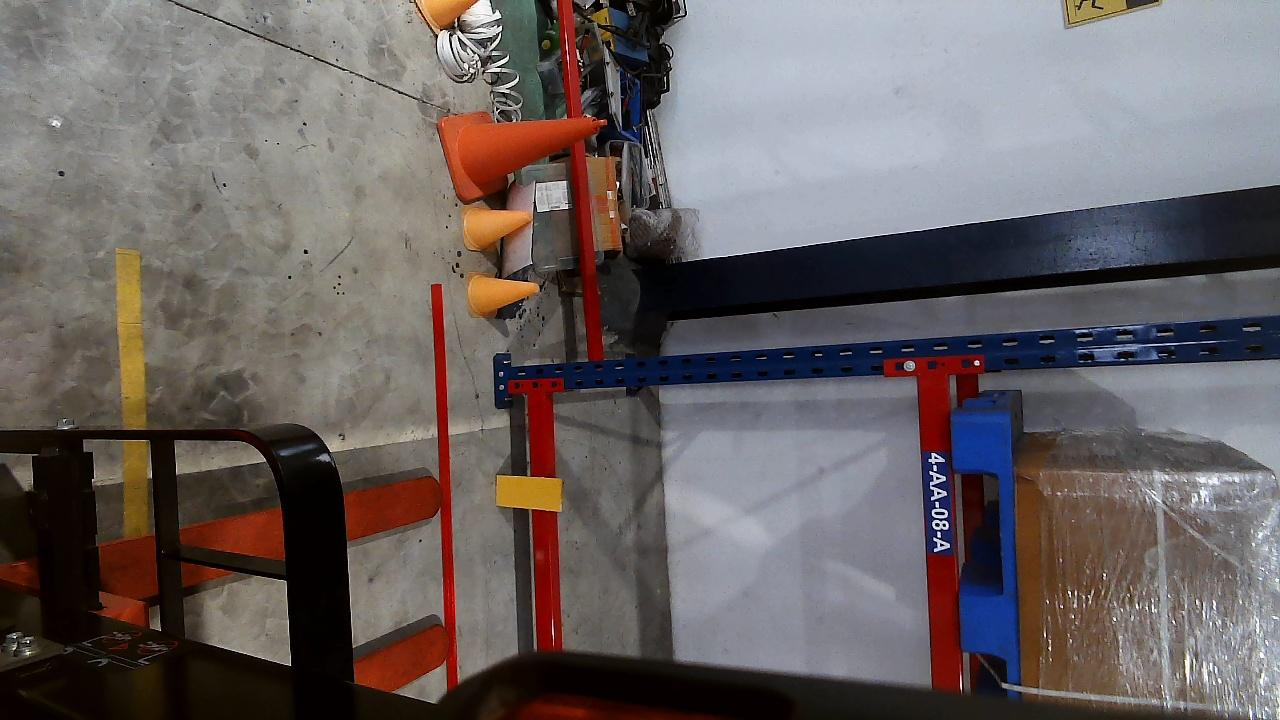h_rack: (915, 370, 967, 691), (524, 393, 561, 650)
orange_strip: (495, 474, 562, 510)
red_line: (426, 281, 462, 690)
small_pallet: (950, 406, 1022, 690)
yellow_line: (114, 249, 146, 428)
